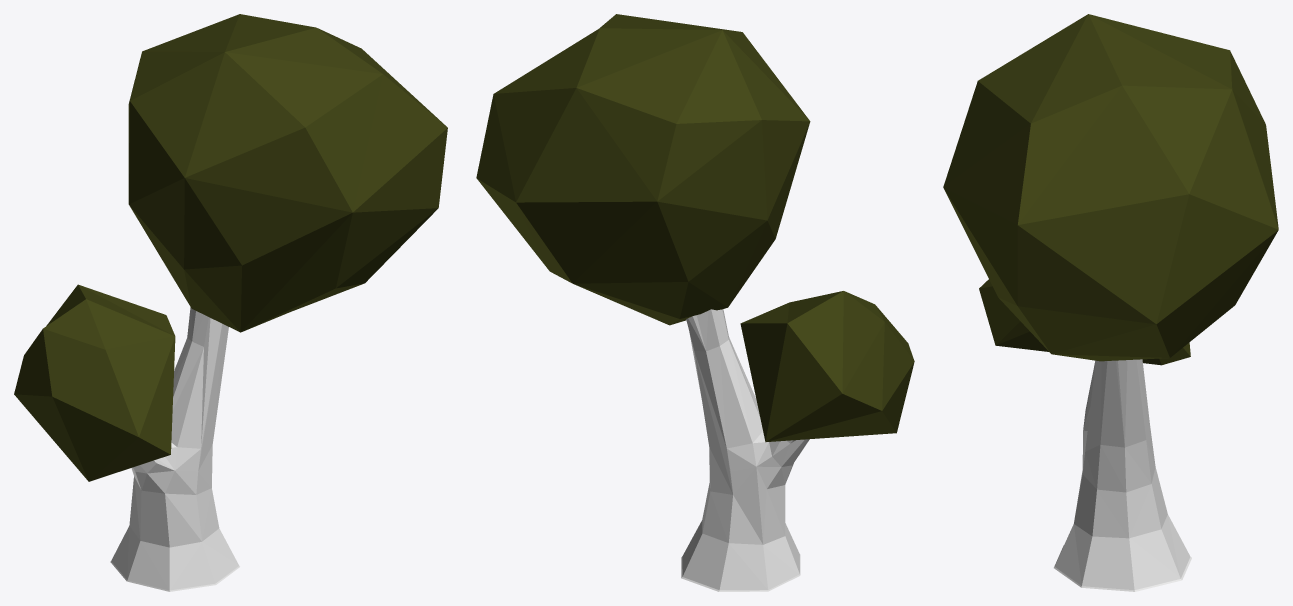
Rendered from tree_solid_04a.fbx.
3 renders of one model, left to right at view 1: azimuth 30°, elevation 25°; view 2: azimuth 150°, elevation 25°; view 3: azimuth 270°, elevation 25°, orthographic. The views are drawn at different scales.
Parts seen in each view (by area): view 1: tree_solid_04; view 2: tree_solid_04; view 3: tree_solid_04.
Part boxes in pixels (left/top/right/bottom): tree_solid_04: left=14, top=14, right=447, bottom=591; tree_solid_04: left=476, top=14, right=914, bottom=591; tree_solid_04: left=943, top=14, right=1278, bottom=591.
Bounding box in the file's own units: 6.11 × 7.53 × 4.04.
